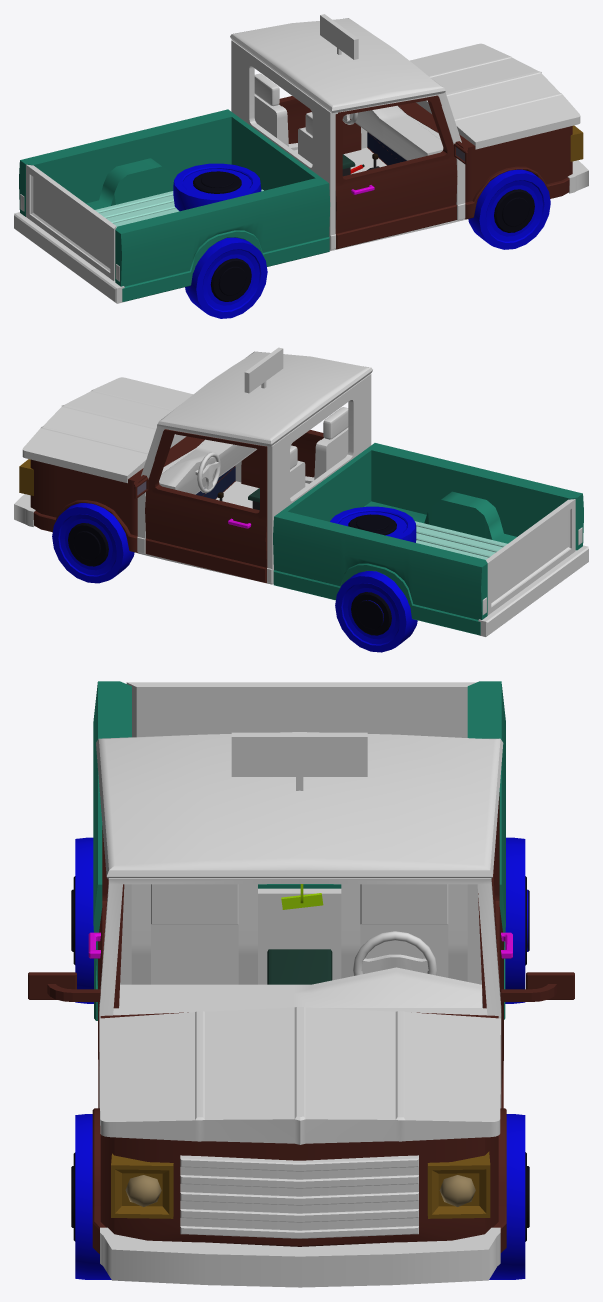
Rendered from Truck.fbx.
3 views of the same model, one above another, from view 1: azimuth 30°, elevation 25°; view 2: azimuth 150°, elevation 25°; view 3: azimuth 270°, elevation 25° (orthographic). The views are drawn at different scales.
Visible parts, largest first — view 1: Cargo, Roof, Bonnet, RightDoor, Tires, CarMainBody, CarFront, CargoDoor, SpareTire, Dashboard, Seats, BackBumper (+4 smaller); view 2: Cargo, Roof, LeftDoor, Bonnet, Tires, CarMainBody, CarFront, CargoDoor, Seats, Dashboard, BackBumper, SpareTire (+5 smaller); view 3: Bonnet, Roof, Seats, FrontGrill, CargoDoor, CarFront, FrontBumper, CarMainBody, Tires, Dashboard, Cargo, Lights (+6 smaller).
Boxes of the visible parts, left/top/right/bottom form: Cargo: left=19, top=109, right=330, bottom=301; Roof: left=230, top=18, right=445, bottom=113; Bonnet: left=410, top=43, right=580, bottom=149; RightDoor: left=335, top=95, right=457, bottom=249; Tires: left=185, top=169, right=550, bottom=318; CarMainBody: left=231, top=40, right=465, bottom=250; CarFront: left=367, top=102, right=572, bottom=219; CargoDoor: left=26, top=164, right=116, bottom=280; SpareTire: left=173, top=163, right=261, bottom=211; Dashboard: left=349, top=106, right=443, bottom=160; Seats: left=254, top=73, right=312, bottom=163; BackBumper: left=14, top=212, right=124, bottom=303; Cargo: left=273, top=443, right=583, bottom=635; Roof: left=157, top=351, right=372, bottom=446; LeftDoor: left=145, top=429, right=267, bottom=583; Bonnet: left=22, top=377, right=192, bottom=483; Tires: left=52, top=503, right=417, bottom=652; CarMainBody: left=137, top=373, right=371, bottom=584; CarFront: left=30, top=436, right=235, bottom=552; CargoDoor: left=486, top=499, right=575, bottom=615; Seats: left=290, top=407, right=348, bottom=497; Dashboard: left=159, top=440, right=256, bottom=494; BackBumper: left=478, top=545, right=588, bottom=636; SpareTire: left=330, top=506, right=416, bottom=542; Bonnet: left=99, top=1007, right=500, bottom=1144; Roof: left=96, top=732, right=503, bottom=879; Seats: left=131, top=884, right=467, bottom=984; FrontGrill: left=180, top=1155, right=418, bottom=1238; CargoDoor: left=126, top=682, right=476, bottom=737; CarFront: left=92, top=1012, right=506, bottom=1253; FrontBumper: left=100, top=1227, right=500, bottom=1287; CarMainBody: left=99, top=878, right=501, bottom=1108; Tires: left=71, top=837, right=529, bottom=1279; Dashboard: left=119, top=967, right=481, bottom=1007; Cargo: left=93, top=681, right=505, bottom=1020; Lights: left=111, top=1151, right=490, bottom=1218.
Bounding box in the file's own units: 32.79 × 13.63 × 16.04.
